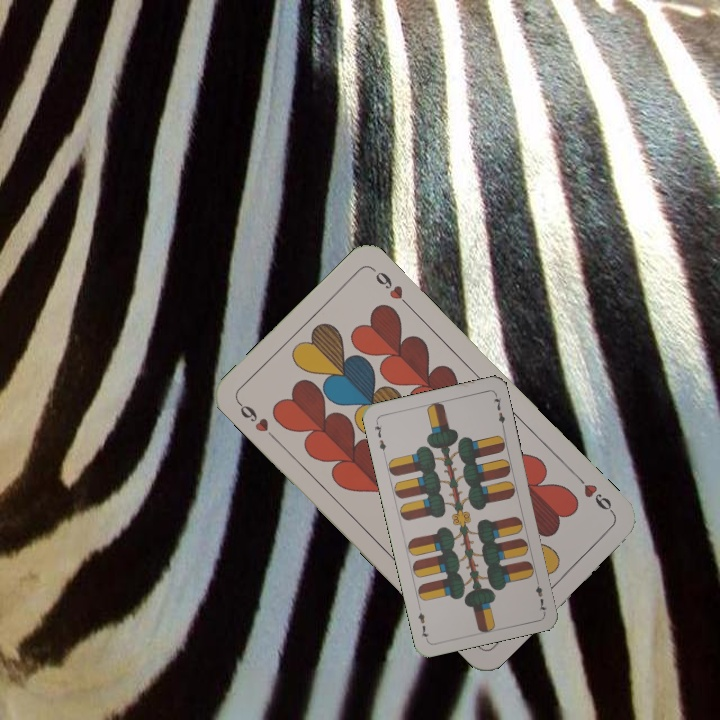E7: (370, 418, 389, 458), (531, 574, 549, 615)
H9: (233, 397, 280, 443), (572, 471, 617, 518)
